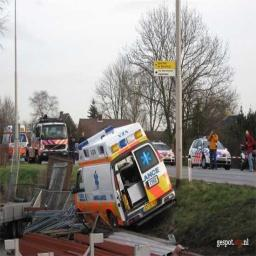Ambulance: (72, 123, 174, 226), (26, 116, 68, 162), (18, 125, 27, 158)
